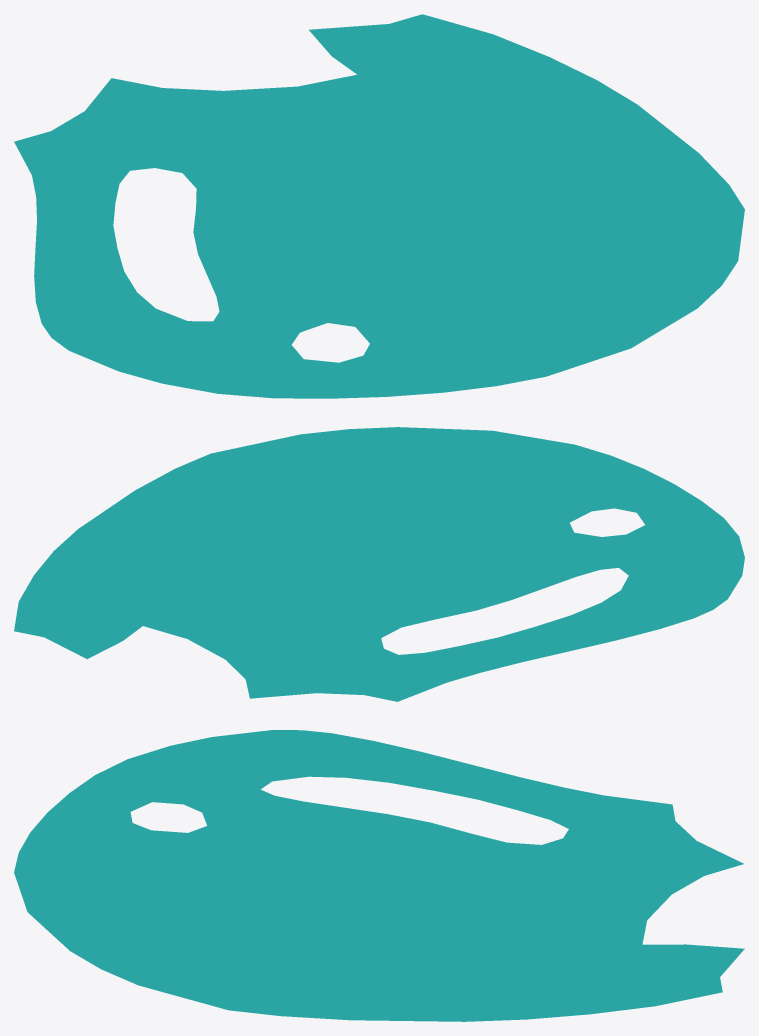
Rendered from eggplant_color_1.fbx.
The picture shows the model from 3 angles, top to bottom: view 1: azimuth 30°, elevation 25°; view 2: azimuth 150°, elevation 25°; view 3: azimuth 270°, elevation 25°; orthographic projection. The views are drawn at different scales.
Parts seen in each view (by area): view 1: eggplant_color_1; view 2: eggplant_color_1; view 3: eggplant_color_1.
Boxes of the visible parts, x1=… form: eggplant_color_1: x1=14, y1=14, x2=744, y2=398; eggplant_color_1: x1=14, y1=427, x2=744, y2=701; eggplant_color_1: x1=14, y1=730, x2=744, y2=1021.
Size of the model in its own units: 49.49 by 0 by 52.4.
